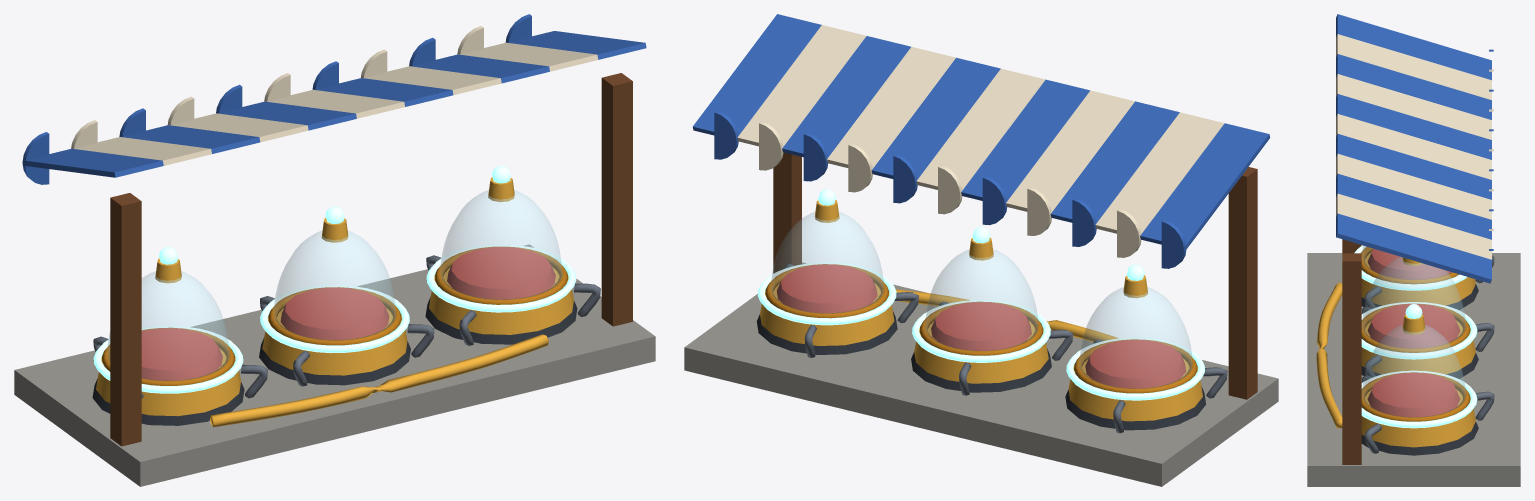
File: IncubatorStation.glb
The picture shows the model from 3 angles, left to right: view 1: azimuth 30°, elevation 25°; view 2: azimuth 150°, elevation 25°; view 3: azimuth 270°, elevation 25°; orthographic projection. The views are drawn at different scales.
Visible parts, largest first — view 1: Body, Glass, Glow; view 2: Body, Glass, Glow; view 3: Body, Glass, Glow.
Part boxes in pixels (bbox=[...]): Body: bbox=[14, 14, 655, 486]; Glass: bbox=[107, 190, 562, 380]; Glow: bbox=[93, 165, 576, 393]; Body: bbox=[684, 14, 1278, 486]; Glass: bbox=[770, 212, 1192, 388]; Glow: bbox=[757, 189, 1205, 400]; Body: bbox=[1307, 14, 1520, 486]; Glass: bbox=[1362, 246, 1465, 417]; Glow: bbox=[1354, 245, 1477, 428].
Bounding box in the file's own units: 13.4 × 7.32 × 5.5.
3 materials, 1 textured.
